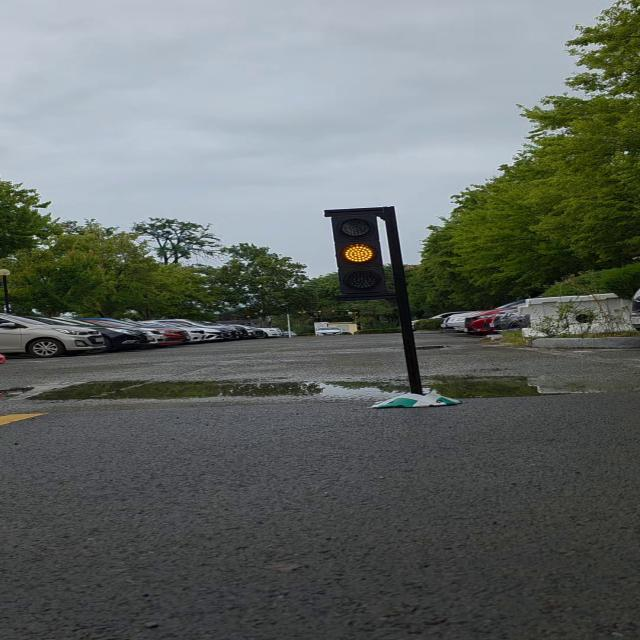yellow: (321, 206, 412, 302)
